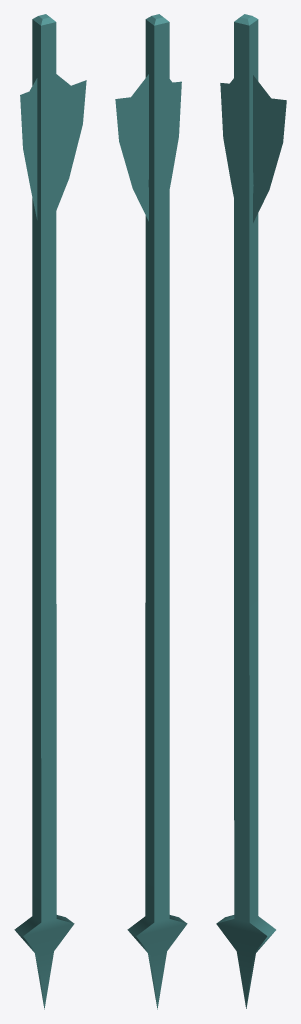
The model's file is Arrow_1.fbx.
3 views of the same model, side by side, from view 1: azimuth 30°, elevation 25°; view 2: azimuth 210°, elevation 25°; view 3: azimuth 330°, elevation 25° (orthographic).
Parts seen in each view (by area): view 1: S1; view 2: S1; view 3: S1.
Boxes of the visible parts, x1,y1,x2,y2 form: S1: (14,14,86,1009); S1: (115,14,187,1009); S1: (216,14,286,1008).
Size of the model in its own units: 10.35 by 146 by 2.37.
